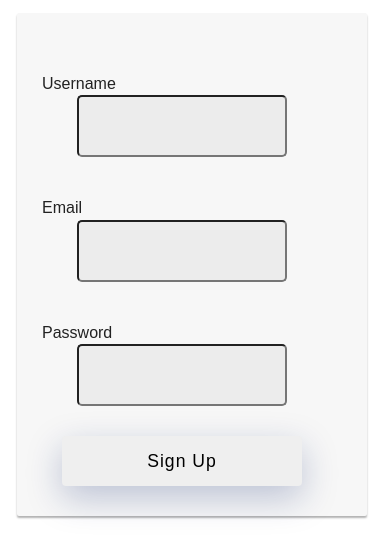
Register › shows error message from server when entering existing username
The image size is (385, 559).
Type "existing_name" into the field labelled "Username" at point(182, 126), box [77,95,287,157]
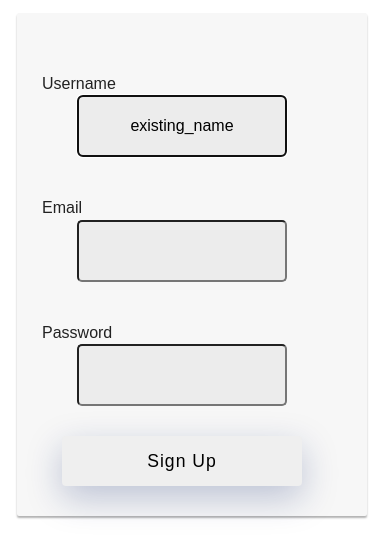
Type "test@test.com" into the field labelled "Email" at point(182, 251), box [77,220,287,282]
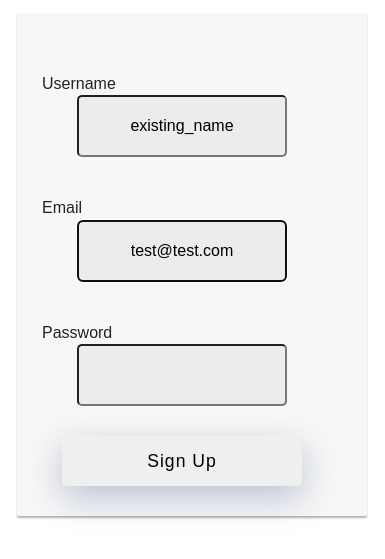
Type "testpass" into the password field labelled "Password" at point(182, 375), box [77,344,287,406]
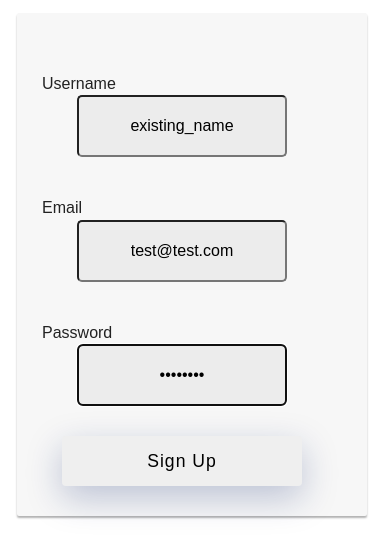
Click the button "Sign Up" at point(182, 461), box [62,436,302,486]
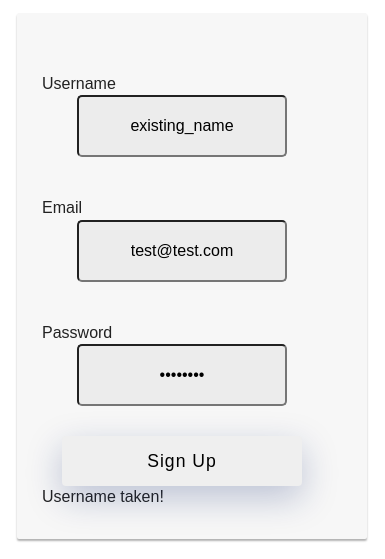
expect the message reads "Username taken!": met, box [42,488,164,505]
